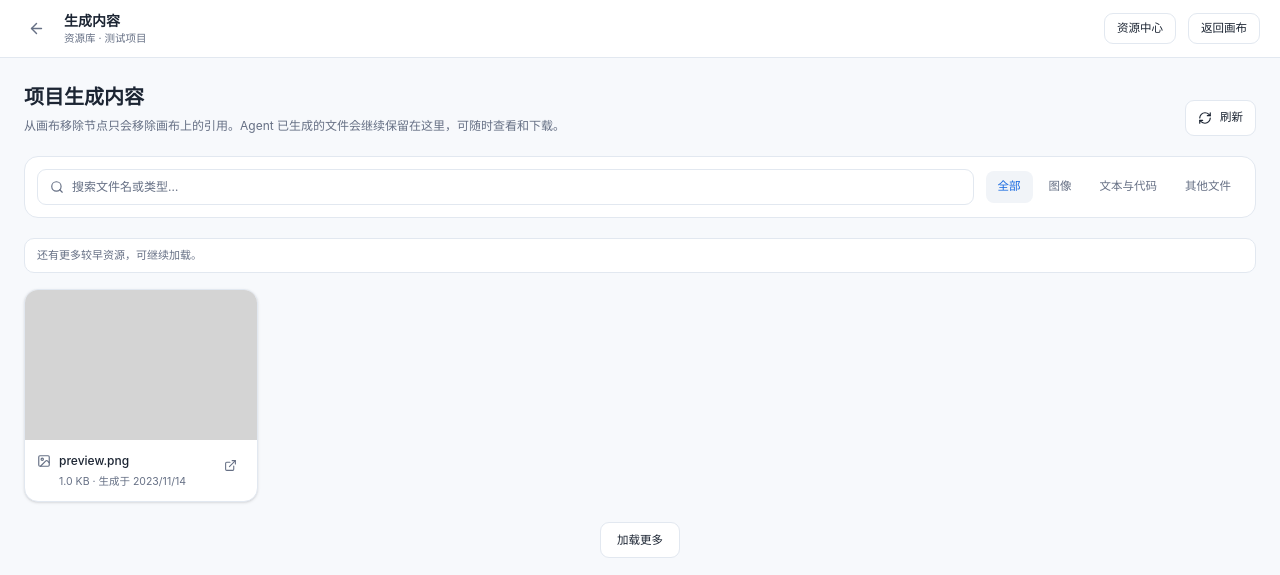
Test case: ResourceLibraryContent › loads the next cursor page and appends resources without duplicates
Click the button "加载更多". click: (640, 540)
box: x1=600 y1=522 x2=680 y2=558
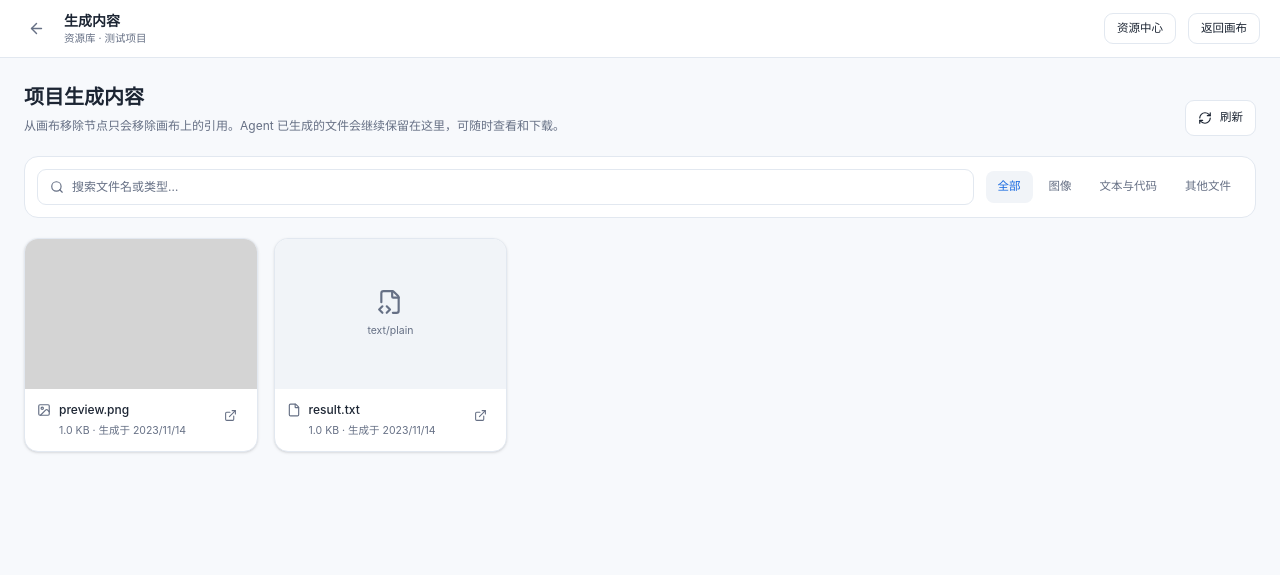
Expected: the text "preview.png" is shown, x1=59 y1=401 x2=209 y2=419
Result: the text "result.txt" is shown at x1=309 y1=401 x2=458 y2=419
